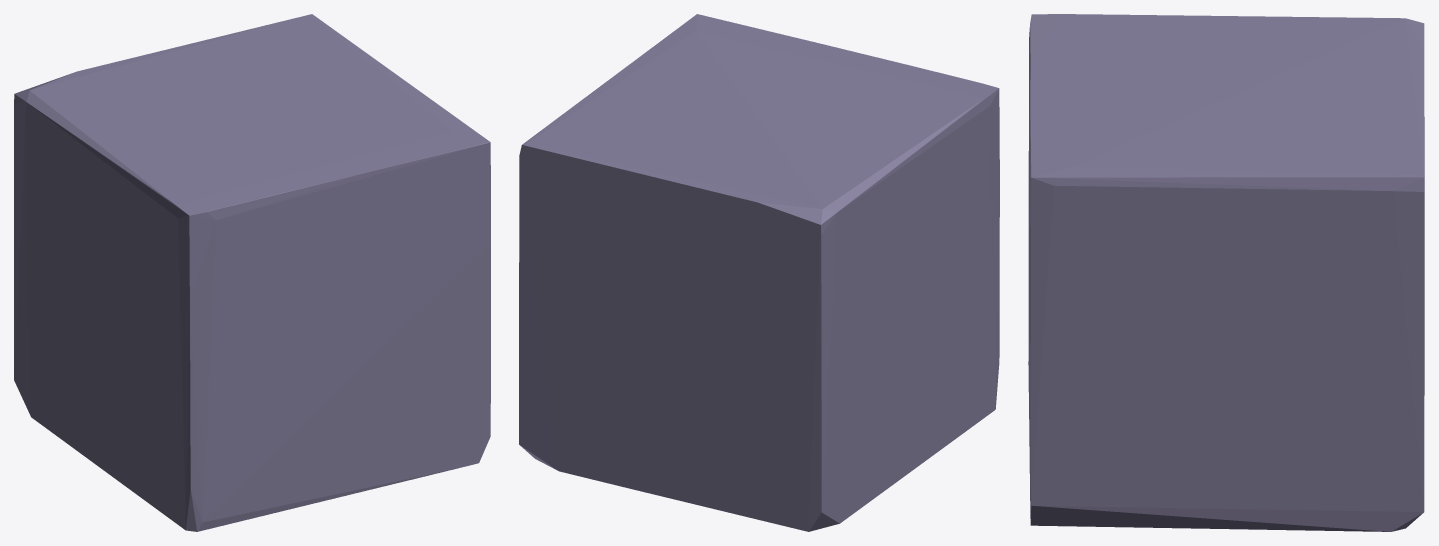
The model's file is crate_plywood_b01.glb.
The picture shows the model from 3 angles, left to right: view 1: azimuth 30°, elevation 25°; view 2: azimuth 150°, elevation 25°; view 3: azimuth 270°, elevation 25°; orthographic projection. The views are drawn at different scales.
Parts seen in each view (by area): view 1: geometry_0; view 2: geometry_0; view 3: geometry_0.
Boxes of the visible parts, x1,y1,x2,y2 form: geometry_0: (14,14,490,531); geometry_0: (519,14,999,531); geometry_0: (1028,14,1424,531).
Size of the model in its own units: 0.4723 by 0.4758 by 0.4796.
